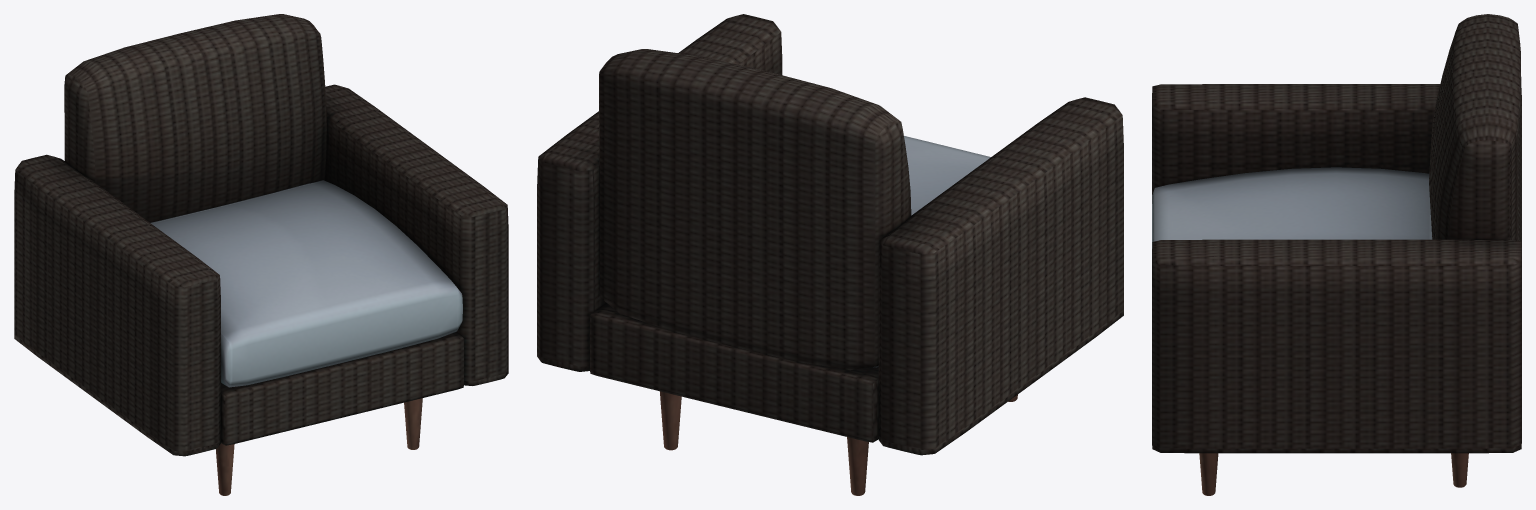
File: jayden_chair.fbx
The picture shows the model from 3 angles, left to right: view 1: azimuth 30°, elevation 25°; view 2: azimuth 150°, elevation 25°; view 3: azimuth 270°, elevation 25°; orthographic projection. The views are drawn at different scales.
Parts seen in each view (by area): view 1: Jayden Chair; view 2: Jayden Chair; view 3: Jayden Chair.
Part boxes in pixels (x1,y1,x2,y2): Jayden Chair: (14, 14, 508, 495); Jayden Chair: (537, 14, 1123, 495); Jayden Chair: (1152, 14, 1521, 495).
Size of the model in its own units: 1.24 by 1.21 by 1.06.
